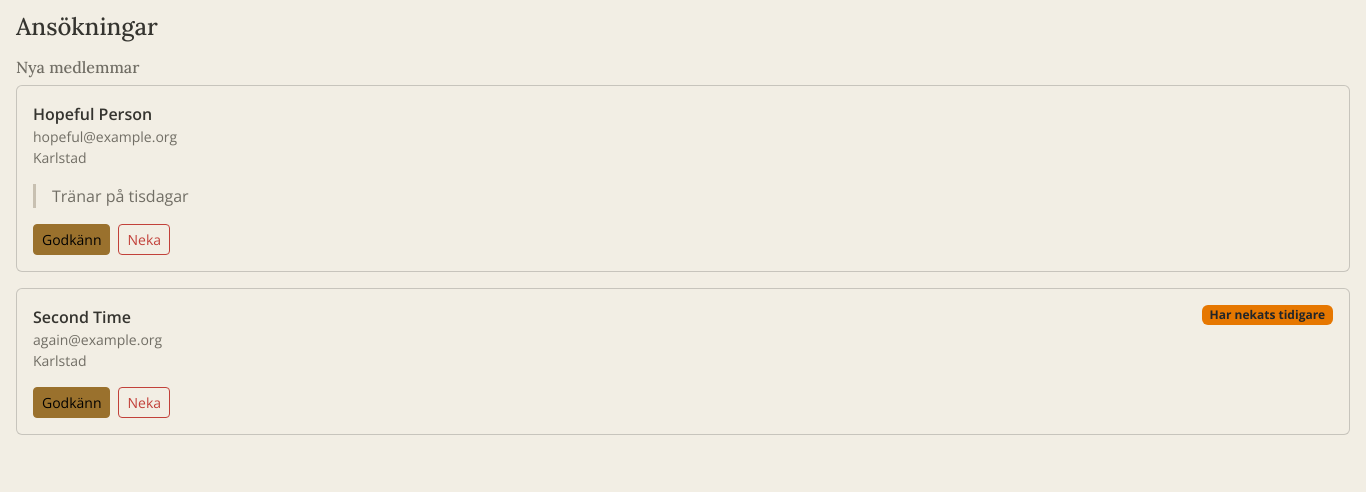
Test: AdminRequests › when the server says no › says to wait when the retry is refused too
This screenshot has width=1366, height=492.
Expected: the text "Hopeful Person" is shown, top-left (33, 103), bottom-right (152, 125)
Click the button "Godkänn" below "Tränar på tisdagar" at (72, 240), box top-left (33, 224), bottom-right (110, 255)
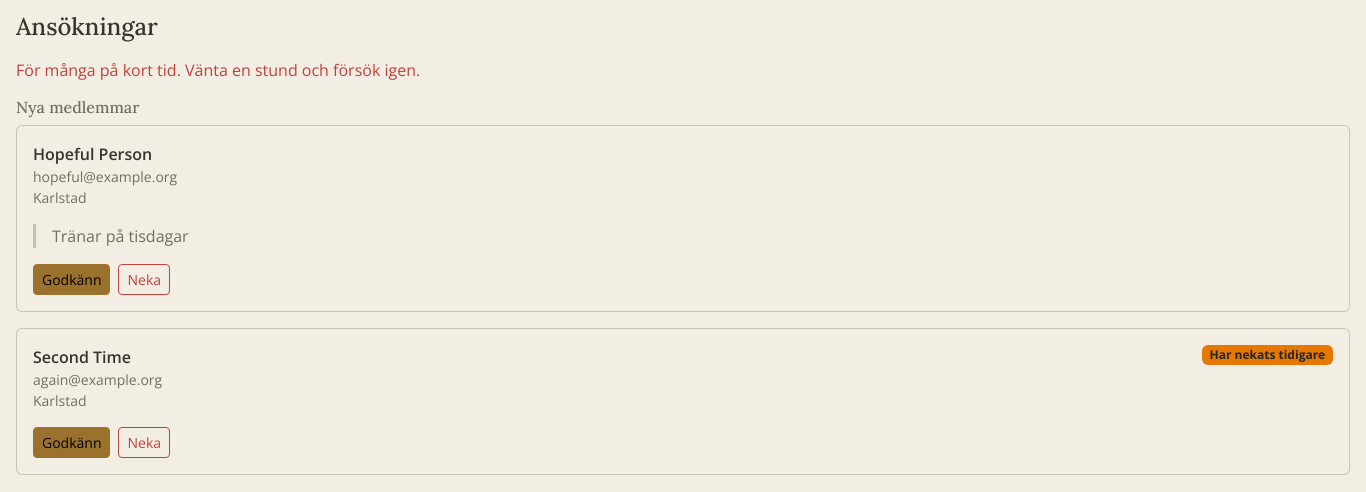
Expected: the text "Hopeful Person" is shown, top-left (33, 143), bottom-right (152, 165)
Expected: the text "För många på kort tid. Vänta en stund och försök igen." is shown, top-left (16, 59), bottom-right (420, 81)
